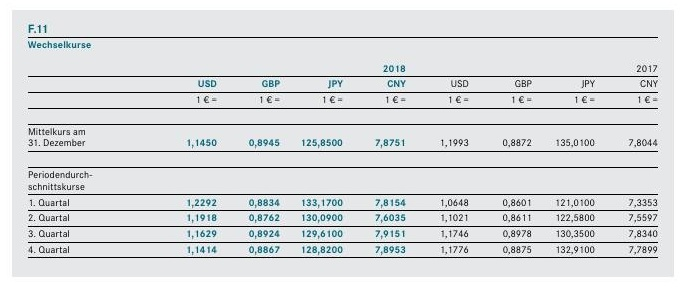table: (0, 0, 687, 289)
